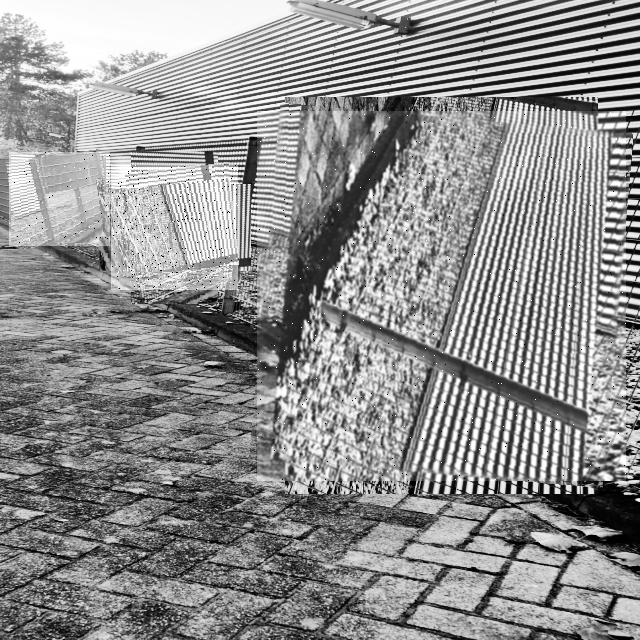fences: (257, 111, 626, 481), (111, 165, 238, 290), (9, 152, 110, 246)
